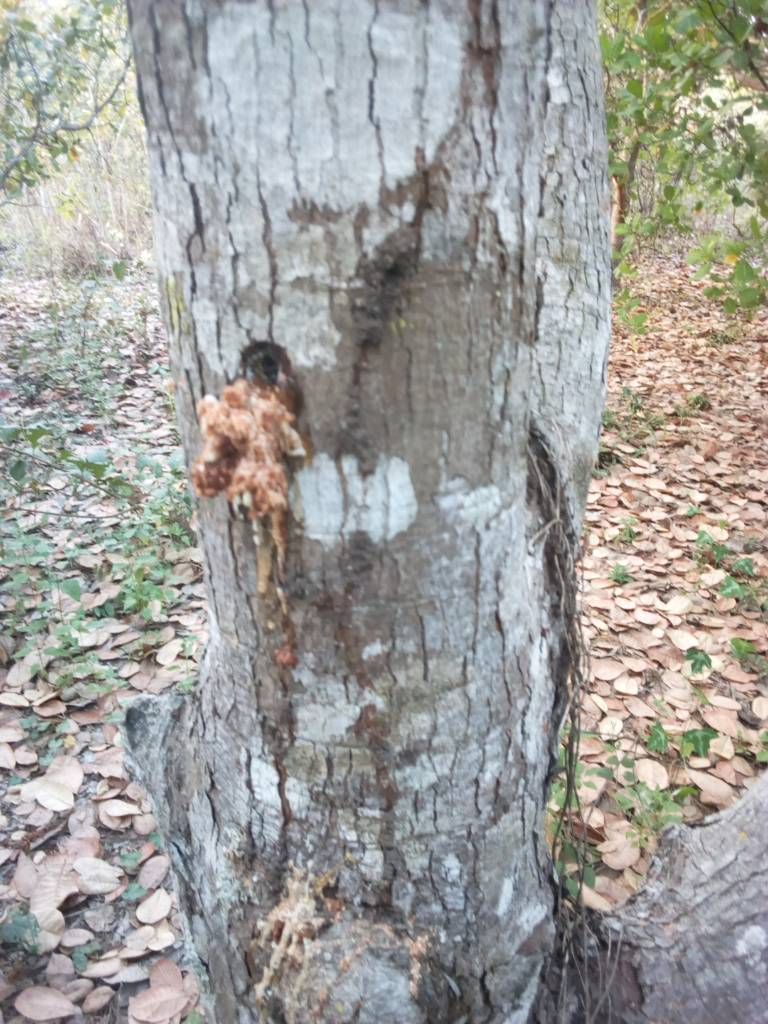Apate terebrans: (145, 314, 363, 527)
